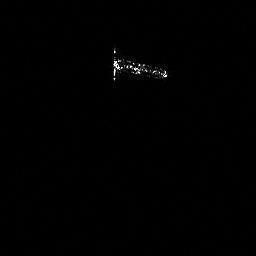ship: (99, 46, 175, 87)
